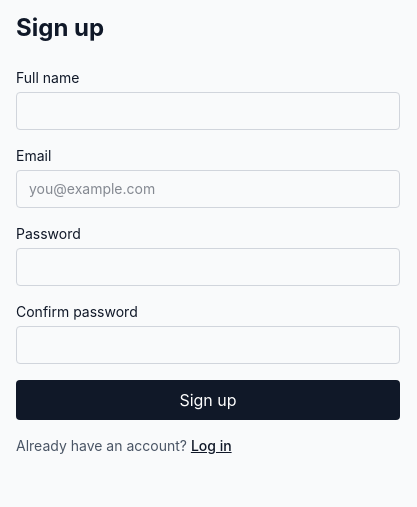
Scenario: RegisterPage › shows an error message on failed registration
Type "Alice Student" into the field labelled "Full name". click: (208, 111)
box: [16,92,400,130]
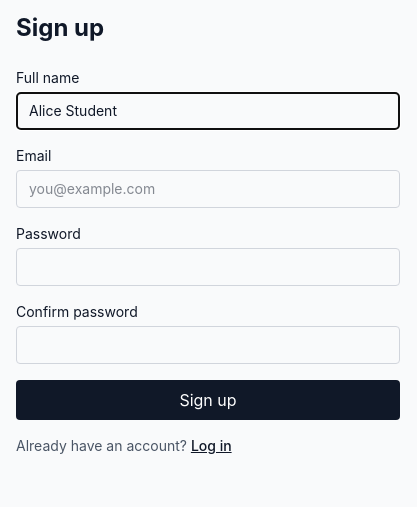
Type "alice@berea.edu" into the field labelled "Email". click: (208, 189)
box: [16,170,400,208]
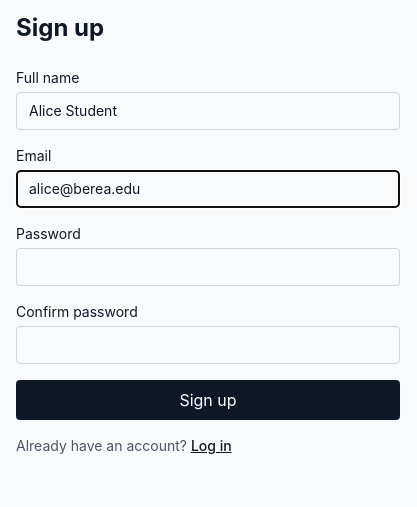
Type "secretpass123" into the password field labelled "Password". click: (208, 267)
box: [16,248,400,286]
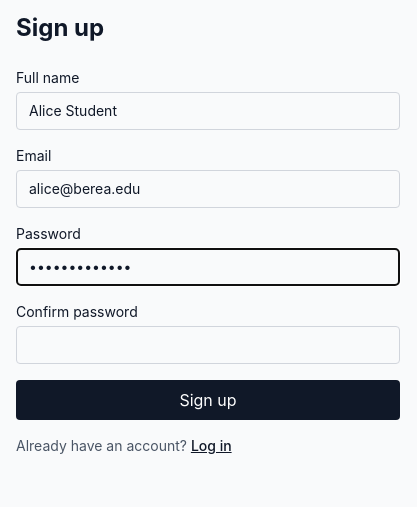
Type "secretpass123" into the password field labelled "Confirm password". click: (208, 345)
box: [16,326,400,364]
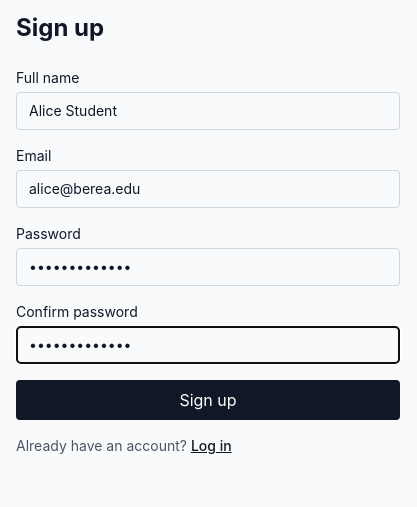
Click the button "Sign up". click: (208, 400)
box: [16,380,400,420]
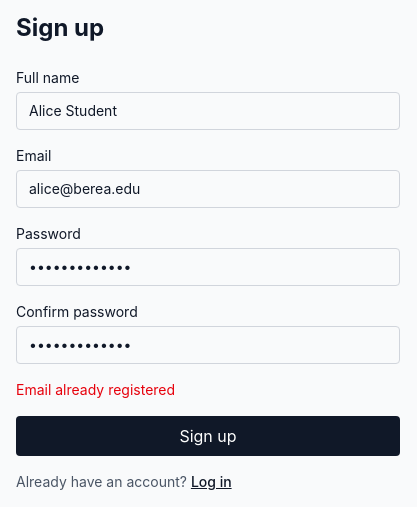
expect the text "Email already registered" is shown: met, box [16,381,175,398]
